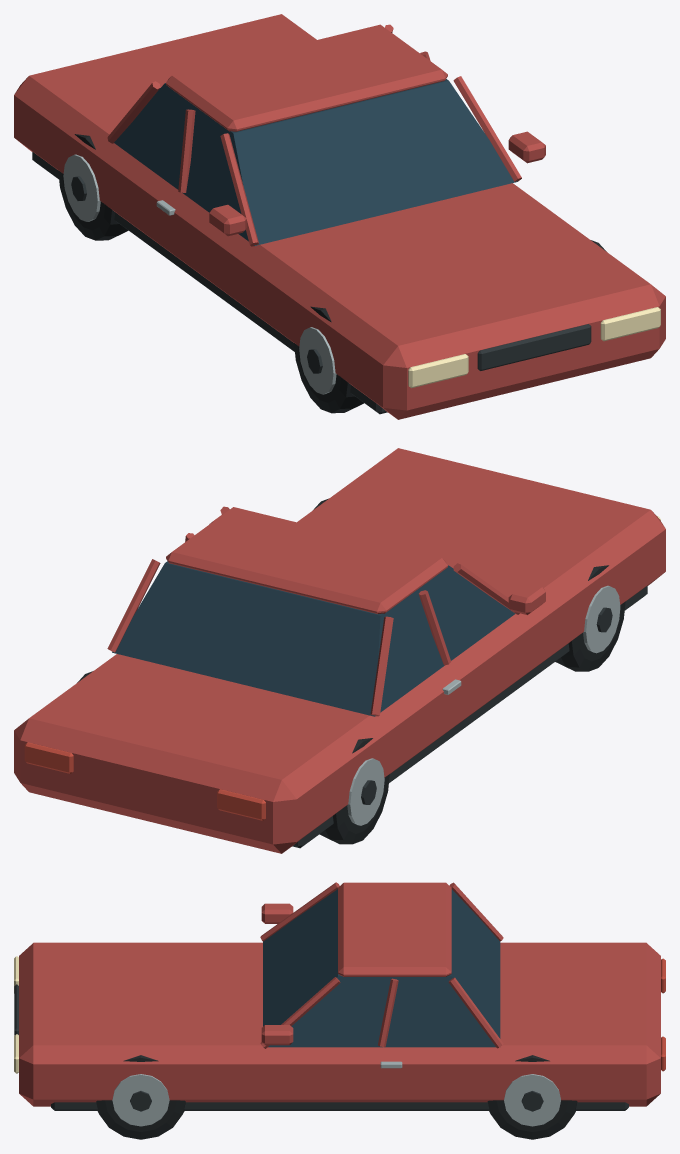
The model's file is car-coupe-07.glb.
3 views of the same model, one above another, from view 1: azimuth 30°, elevation 25°; view 2: azimuth 150°, elevation 25°; view 3: azimuth 270°, elevation 25° (orthographic). The views are drawn at different scales.
Visible parts, largest first — view 1: Body, Glass, Roof, FrontGrille, Sill, Rim_FR, Rim_RR, Tyre_RR, Tyre_FR, Lamp_Head, Lamp_Head.001, WindowPillar.003 (+5 smaller); view 2: Body, Glass, Roof, Sill, Rim_RR, Rim_FR, Tyre_RR, Tyre_FR, Lamp_Tail.001, Lamp_Tail, WindowPillar.002, WindowPillar.005 (+3 smaller); view 3: Body, Glass, Roof, Sill, Rim_FL, Rim_RL, Tyre_RL, Tyre_FL, WindowPillar.005, Mirror.001, WindowPillar.003, WindowPillar (+3 smaller).
Part boxes in pixels (left/top/right/bottom): Body: left=14, top=14, right=665, bottom=419; Glass: left=114, top=79, right=517, bottom=245; Roof: left=166, top=24, right=447, bottom=131; FrontGrille: left=477, top=324, right=591, bottom=370; Sill: left=32, top=152, right=387, bottom=414; Rim_FR: left=299, top=327, right=336, bottom=394; Rim_RR: left=63, top=154, right=100, bottom=221; Tyre_RR: left=58, top=134, right=128, bottom=240; Tyre_FR: left=294, top=306, right=363, bottom=413; Lamp_Head: left=408, top=354, right=468, bottom=388; Lamp_Head.001: left=600, top=307, right=660, bottom=341; WindowPillar.003: left=453, top=76, right=521, bottom=181; Body: left=14, top=448, right=665, bottom=853; Glass: left=112, top=561, right=515, bottom=716; Roof: left=166, top=507, right=447, bottom=613; Sill: left=292, top=586, right=647, bottom=848; Rim_RR: left=347, top=758, right=384, bottom=825; Rim_FR: left=583, top=585, right=620, bottom=653; Tyre_RR: left=319, top=738, right=389, bottom=844; Tyre_FR: left=555, top=565, right=625, bottom=671; Lamp_Tail.001: left=24, top=742, right=73, bottom=773; Lamp_Tail: left=217, top=789, right=265, bottom=820; WindowPillar.002: left=370, top=616, right=393, bottom=716; WindowPillar.005: left=107, top=559, right=160, bottom=652; Body: left=19, top=942, right=660, bottom=1106; Glass: left=263, top=889, right=500, bottom=1047; Roof: left=338, top=882, right=451, bottom=976; Sill: left=51, top=1102, right=628, bottom=1110; Rim_FL: left=112, top=1074, right=169, bottom=1126; Rim_RL: left=504, top=1074, right=560, bottom=1126; Tyre_RL: left=487, top=1055, right=577, bottom=1139; Tyre_FL: left=96, top=1055, right=185, bottom=1139; WindowPillar.005: left=448, top=977, right=503, bottom=1048; Mirror.001: left=261, top=1025, right=293, bottom=1045; WindowPillar.003: left=260, top=977, right=340, bottom=1048; WindowPillar: left=260, top=882, right=339, bottom=941.
Bounding box in the file's own units: 2.14 × 1.23 × 4.52.
